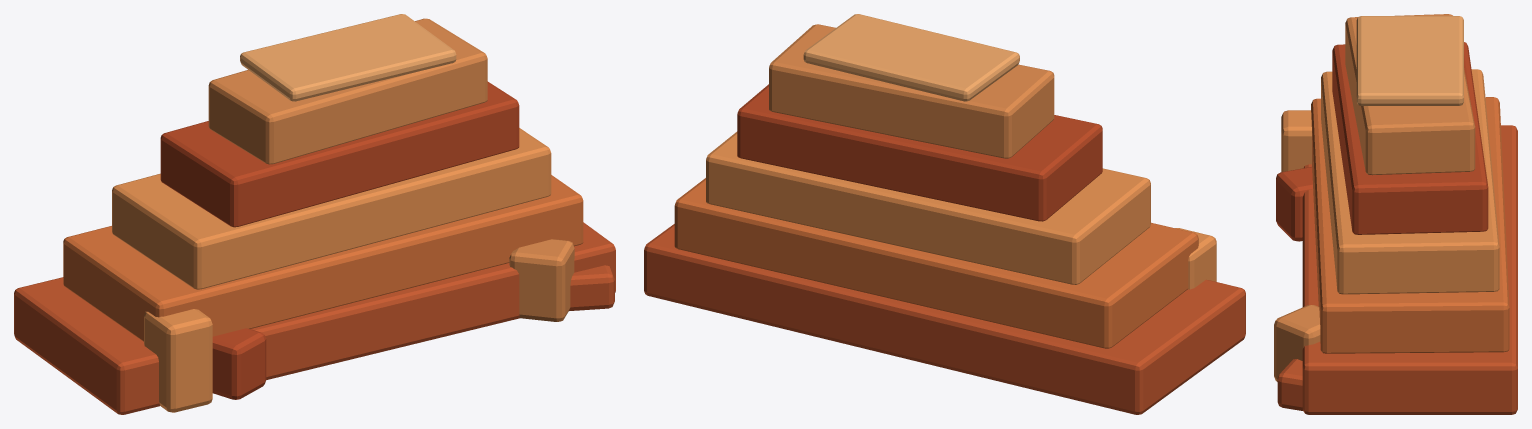
Rendered from desert_mesa.glb.
3 views of the same model, side by side, from view 1: azimuth 30°, elevation 25°; view 2: azimuth 150°, elevation 25°; view 3: azimuth 270°, elevation 25° (orthographic).
Visible parts, largest first — view 1: layer1, layer0, layer2, layer3, layer4, cap, rock0, rock2, rock1, rock3; view 2: layer0, layer1, layer2, layer3, layer4, cap, rock0; view 3: layer0, layer1, layer2, layer3, cap, layer4, rock2, rock1, rock0, rock3.
Boxes of the visible parts, left/top/right/bottom form: layer1: left=63, top=175, right=583, bottom=341; layer0: left=14, top=222, right=615, bottom=414; layer2: left=112, top=128, right=551, bottom=289; layer3: left=160, top=81, right=519, bottom=227; layer4: left=208, top=18, right=487, bottom=164; cap: left=240, top=14, right=456, bottom=101; rock0: left=144, top=309, right=212, bottom=412; rock2: left=509, top=239, right=574, bottom=321; rock1: left=212, top=328, right=266, bottom=399; rock3: left=569, top=265, right=614, bottom=310; layer0: left=644, top=224, right=1245, bottom=414; layer1: left=674, top=178, right=1198, bottom=348; layer2: left=706, top=131, right=1150, bottom=284; layer3: left=737, top=84, right=1102, bottom=221; layer4: left=769, top=24, right=1054, bottom=158; cap: left=803, top=14, right=1019, bottom=101; rock0: left=1175, top=228, right=1216, bottom=289; layer0: left=1302, top=125, right=1517, bottom=414; layer1: left=1311, top=97, right=1509, bottom=353; layer2: left=1321, top=69, right=1499, bottom=294; layer3: left=1332, top=42, right=1488, bottom=234; cap: left=1356, top=16, right=1463, bottom=105; layer4: left=1345, top=14, right=1475, bottom=175; rock2: left=1274, top=305, right=1320, bottom=381; rock1: left=1276, top=167, right=1312, bottom=241; rock0: left=1281, top=110, right=1311, bottom=172; rock3: left=1277, top=359, right=1303, bottom=411.
Size of the model in its own units: 24 by 11.9 by 10.2.
